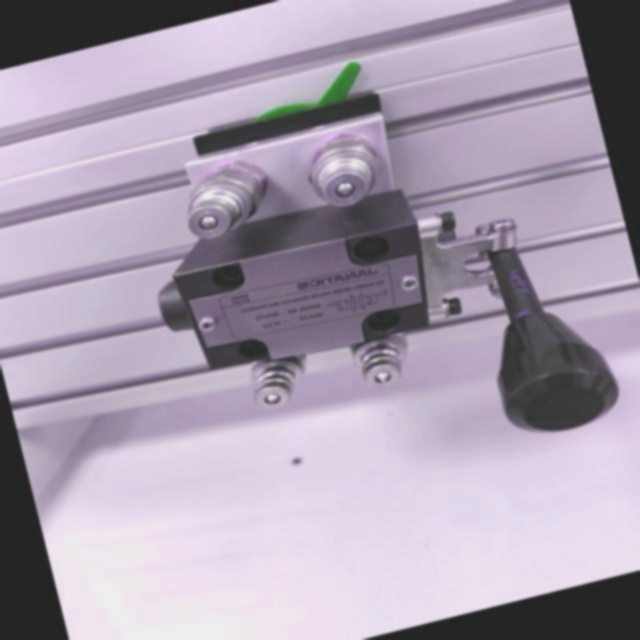4by3 hand lever valve: (104, 18, 632, 528)
